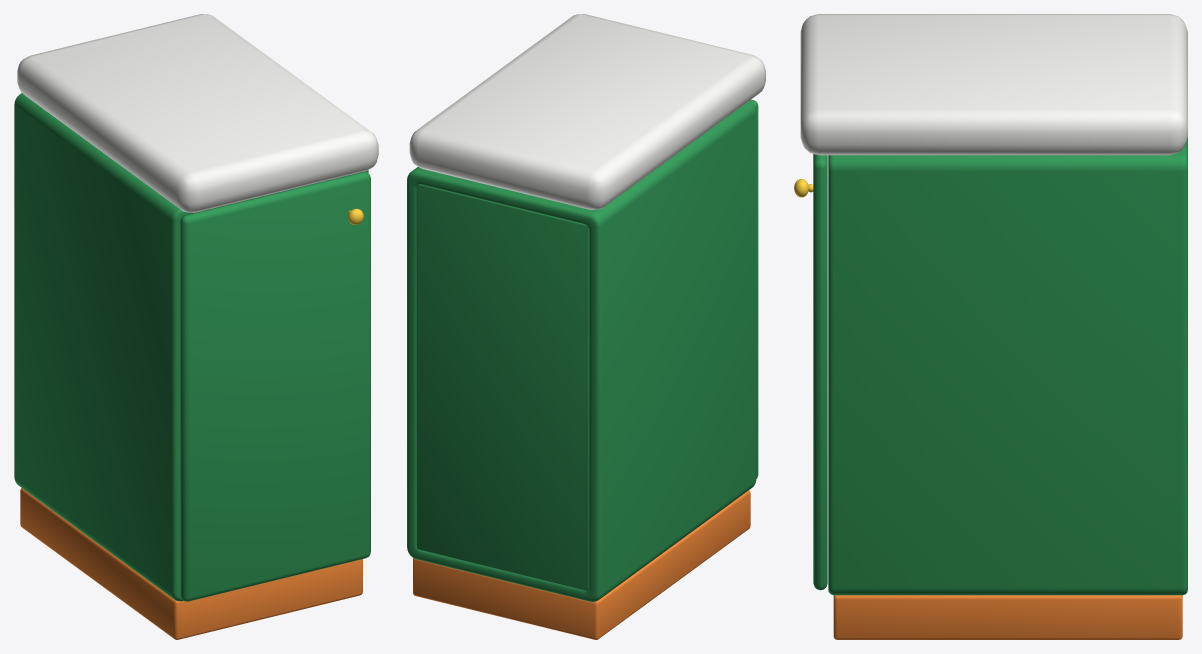
File: armario_cozinha_base_1porta_verde.glb
The picture shows the model from 3 angles, left to right: view 1: azimuth 30°, elevation 25°; view 2: azimuth 150°, elevation 25°; view 3: azimuth 270°, elevation 25°; orthographic projection. The views are drawn at different scales.
Parts seen in each view (by area): view 1: armario_cozinha_base_1porta_verde, porta_1; view 2: armario_cozinha_base_1porta_verde, porta_1; view 3: armario_cozinha_base_1porta_verde, porta_1.
Boxes of the visible parts, x1,y1,x2,y2 form: armario_cozinha_base_1porta_verde: (14, 14, 378, 639); porta_1: (180, 172, 370, 601); armario_cozinha_base_1porta_verde: (407, 14, 765, 639); porta_1: (749, 99, 758, 478); armario_cozinha_base_1porta_verde: (800, 14, 1187, 639); porta_1: (794, 154, 827, 590).
Size of the model in its own units: 0.398 by 0.9 by 0.609.
1 material, 1 textured.
